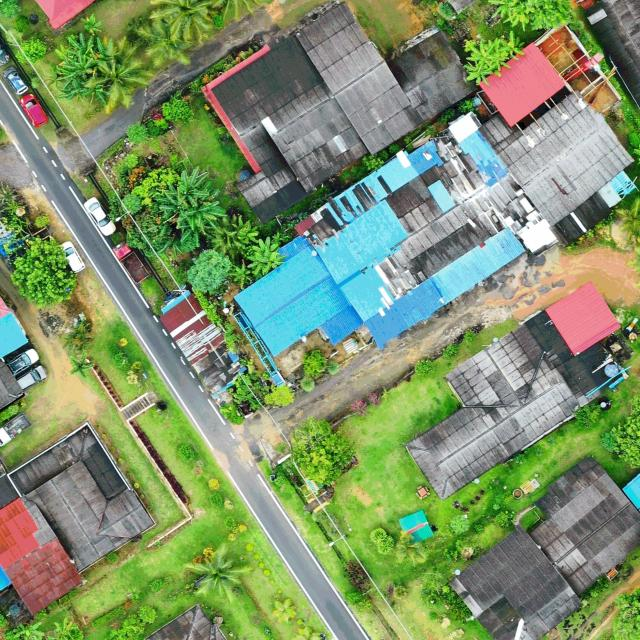Tree: (107, 166, 181, 255), (155, 166, 228, 248), (85, 36, 155, 115), (9, 236, 76, 309), (292, 416, 356, 487), (186, 546, 253, 608), (600, 381, 640, 472), (135, 16, 195, 69), (148, 0, 217, 43), (186, 249, 232, 294), (611, 580, 640, 640), (465, 39, 500, 87), (245, 236, 288, 275), (614, 193, 640, 241), (212, 0, 264, 21), (232, 214, 259, 250), (498, 31, 525, 60), (20, 36, 48, 62), (12, 621, 45, 640), (80, 12, 104, 36), (53, 617, 77, 640), (633, 144, 640, 166)
